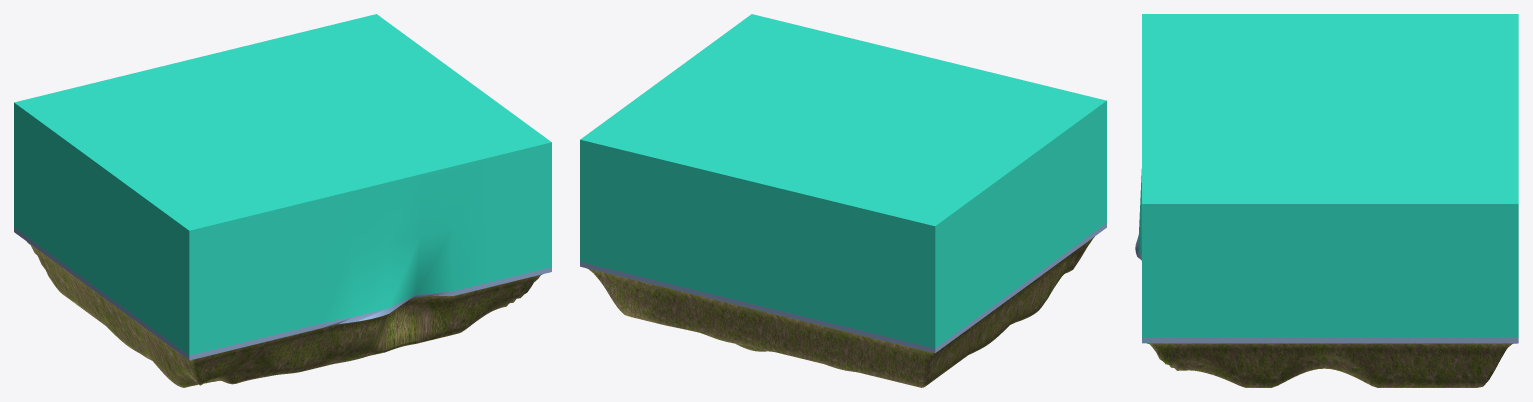
File: map.obj
3 views of the same model, side by side, from view 1: azimuth 30°, elevation 25°; view 2: azimuth 150°, elevation 25°; view 3: azimuth 270°, elevation 25° (orthographic). The views are drawn at different scales.
Visible parts, largest first — view 1: Box001; view 2: Box001; view 3: Box001.
Boxes of the visible parts, <box> form: Box001: <box>14,14,551,387</box>; Box001: <box>580,14,1106,387</box>; Box001: <box>1135,14,1518,387</box>.
Size of the model in its own units: 610 by 341 by 520.
3 materials, 1 textured.
